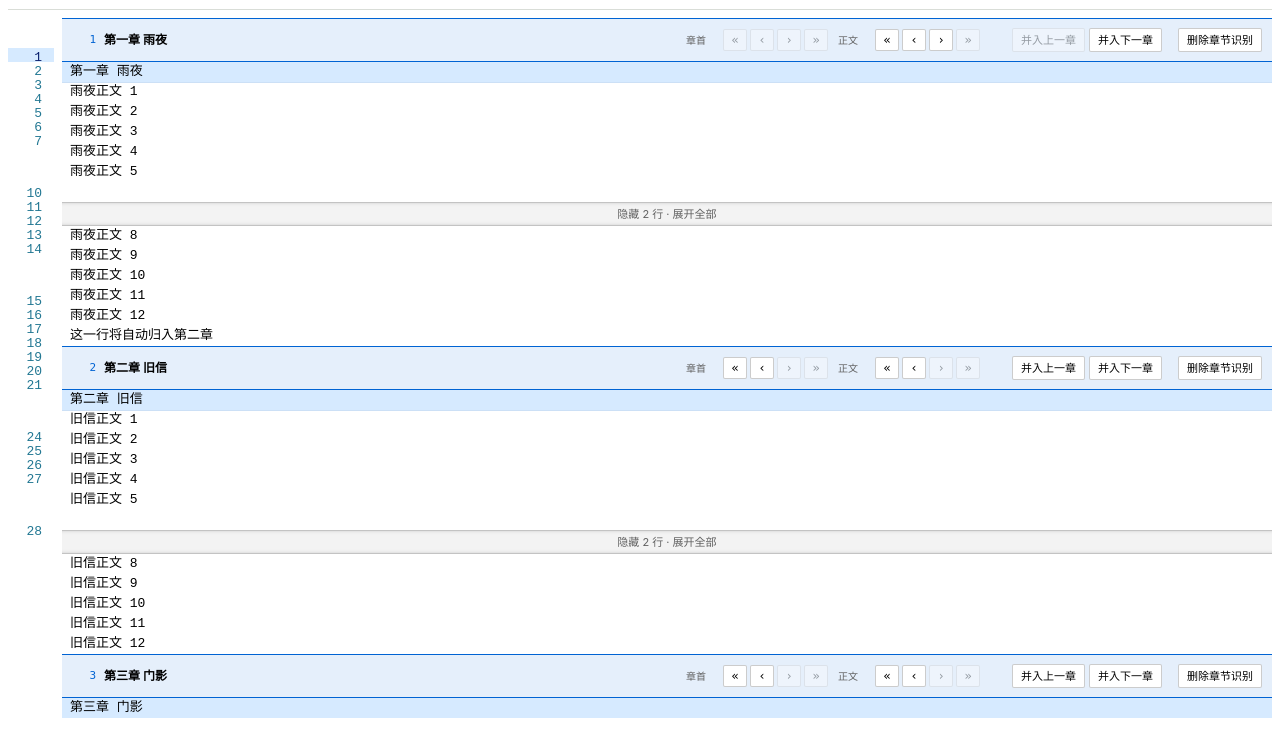
project workspace controllers › baseline 冲突保留草稿并禁止继续修改或重提，直到显式刷新
Click the button named "进" at (941, 40), box [929,29,953,51]
(page scrolled)
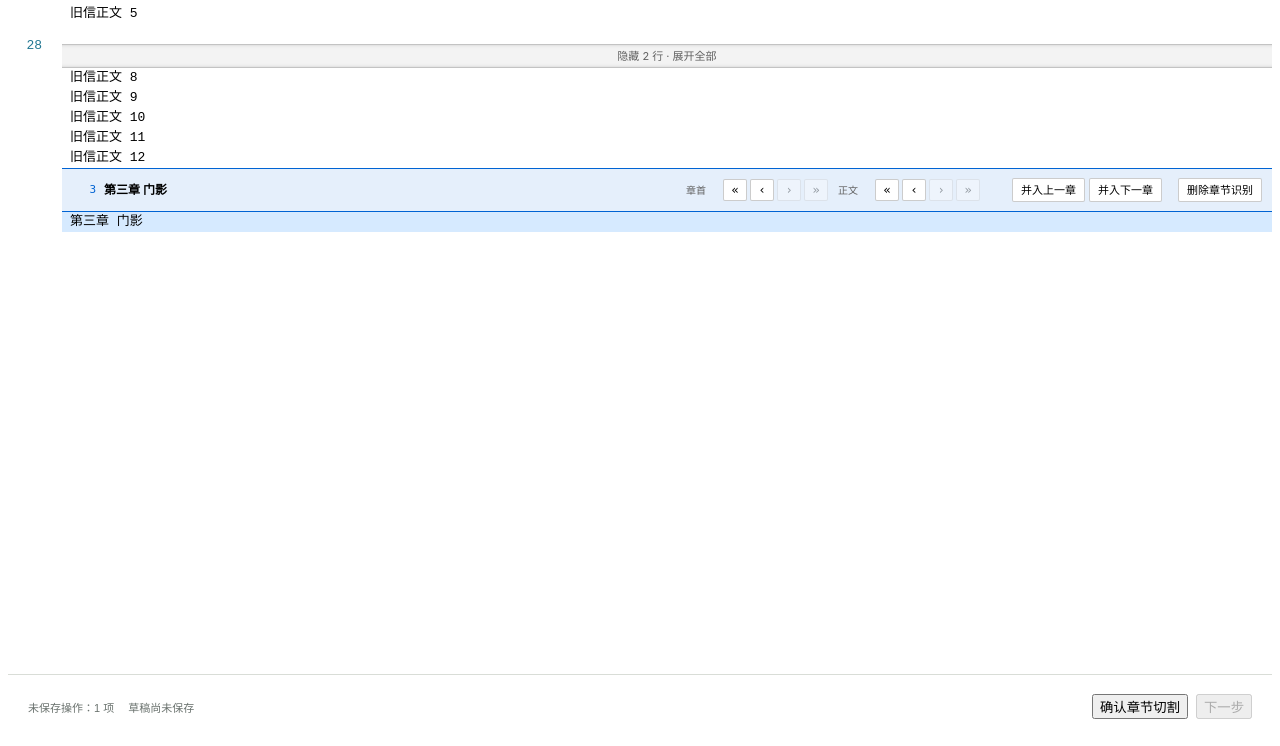
Click the button with test id "confirm-chapter-cut" at (1140, 706), box [1092,694,1188,719]
(page scrolled)
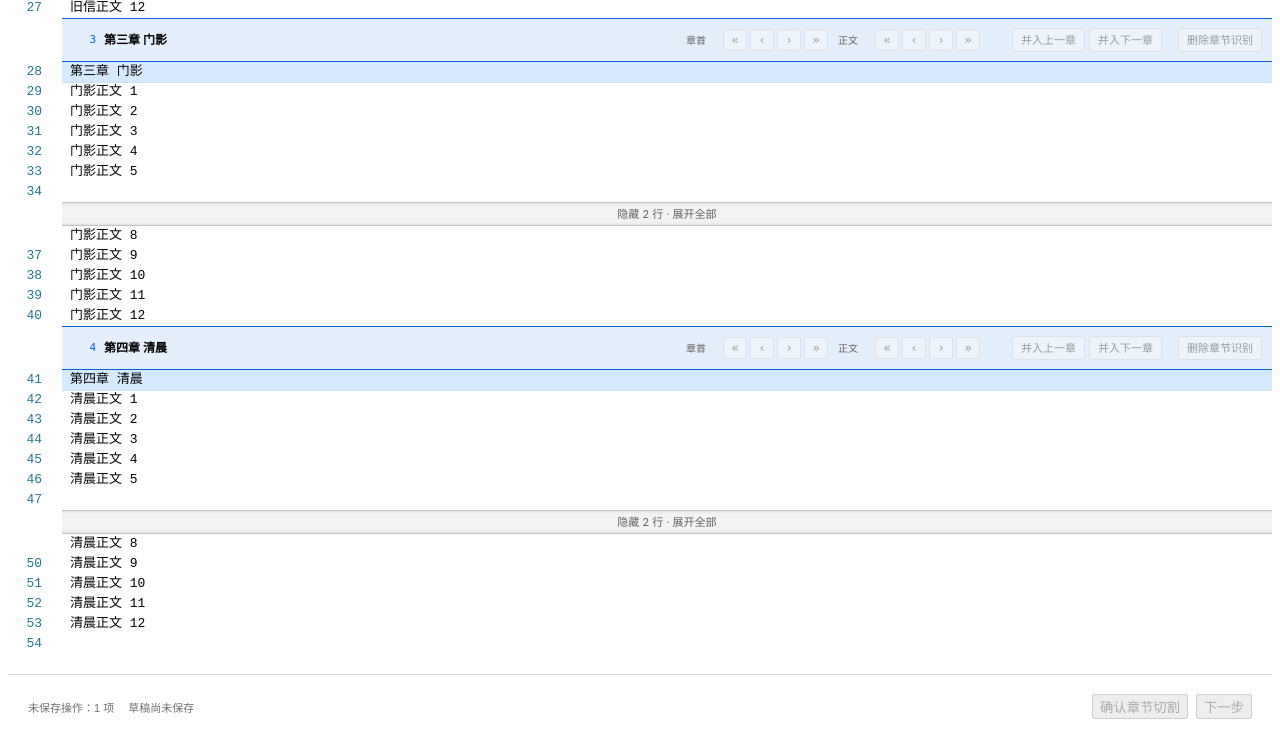
Expected: the button with test id "next-proofreading" is disabled, [1196,694,1252,719]
Now the text with test id "chapter-operation-count" shows "1", box [28,702,114,714]
Now the button with test id "confirm-chapter-cut" is disabled
Click the button with test id "confirm-chapter-cut" at (1140, 706), box [1092,694,1188,719]
(page scrolled)
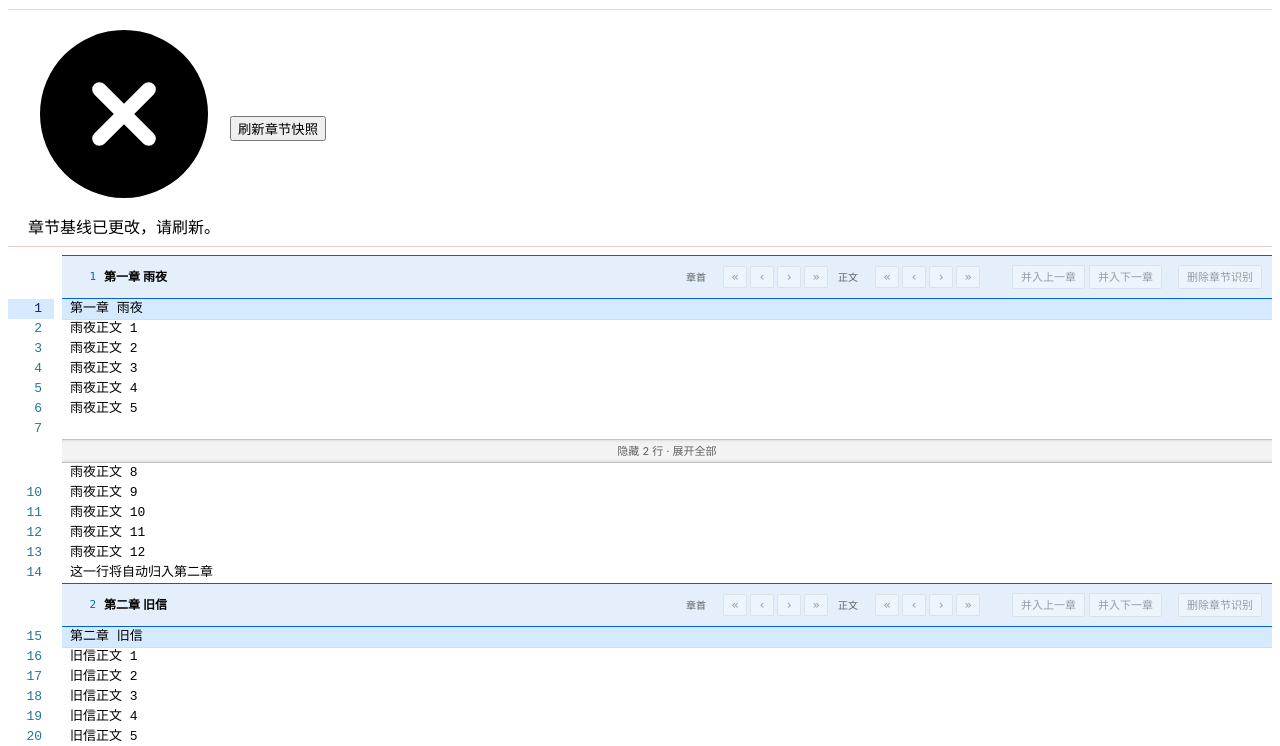
Click the button with test id "refresh-conflicted-chapter-draft" at (278, 128), box [230,116,326,140]
(page scrolled)
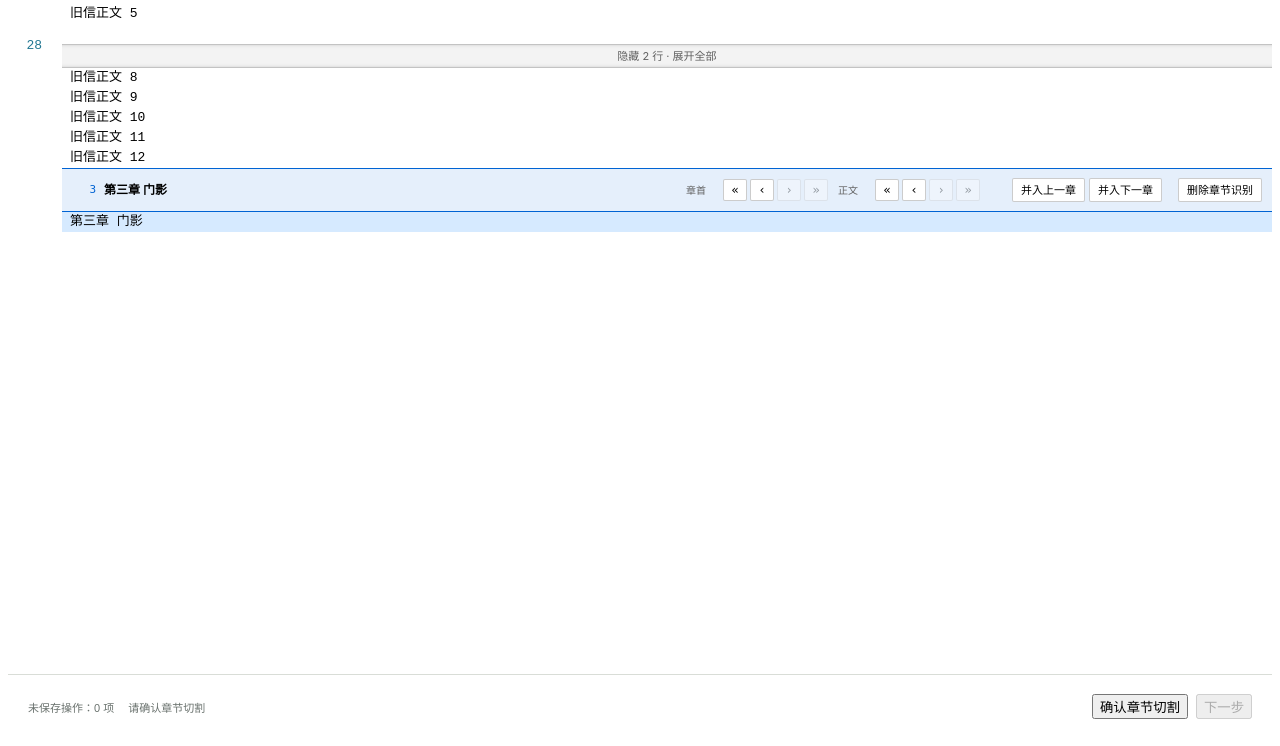
Now the text with test id "chapter-operation-count" shows "0", box [28,702,114,714]
